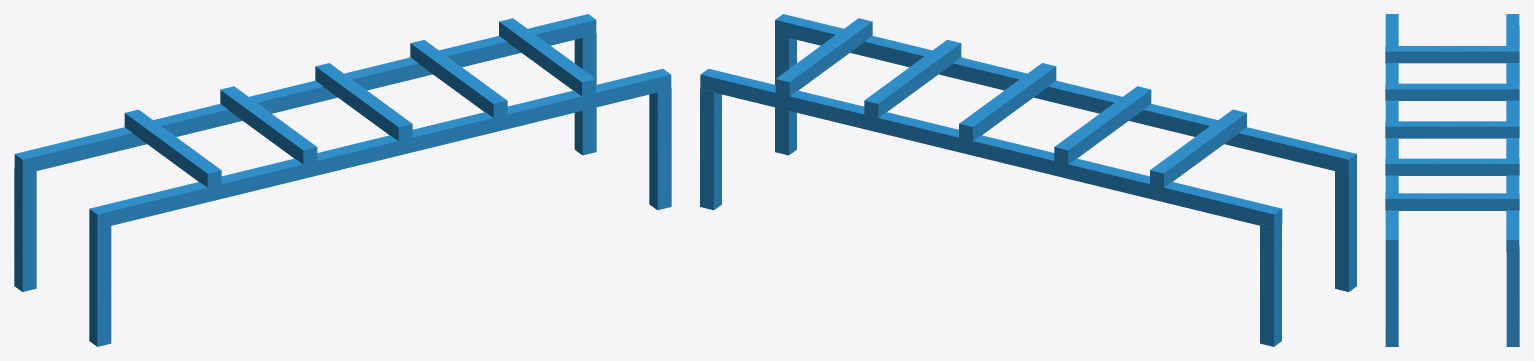
File: huriko_dodai_blue.fbx
3 renders of one model, left to right at view 1: azimuth 30°, elevation 25°; view 2: azimuth 150°, elevation 25°; view 3: azimuth 270°, elevation 25°, orthographic. The views are drawn at different scales.
Parts seen in each view (by area): view 1: Cube.001; view 2: Cube.001; view 3: Cube.001.
Boxes of the visible parts, x1,y1,x2,y2 form: Cube.001: (14, 14, 671, 346); Cube.001: (700, 14, 1356, 346); Cube.001: (1385, 14, 1519, 346).
Size of the model in its own units: 3014 by 735 by 756.
1 material, 1 textured.
